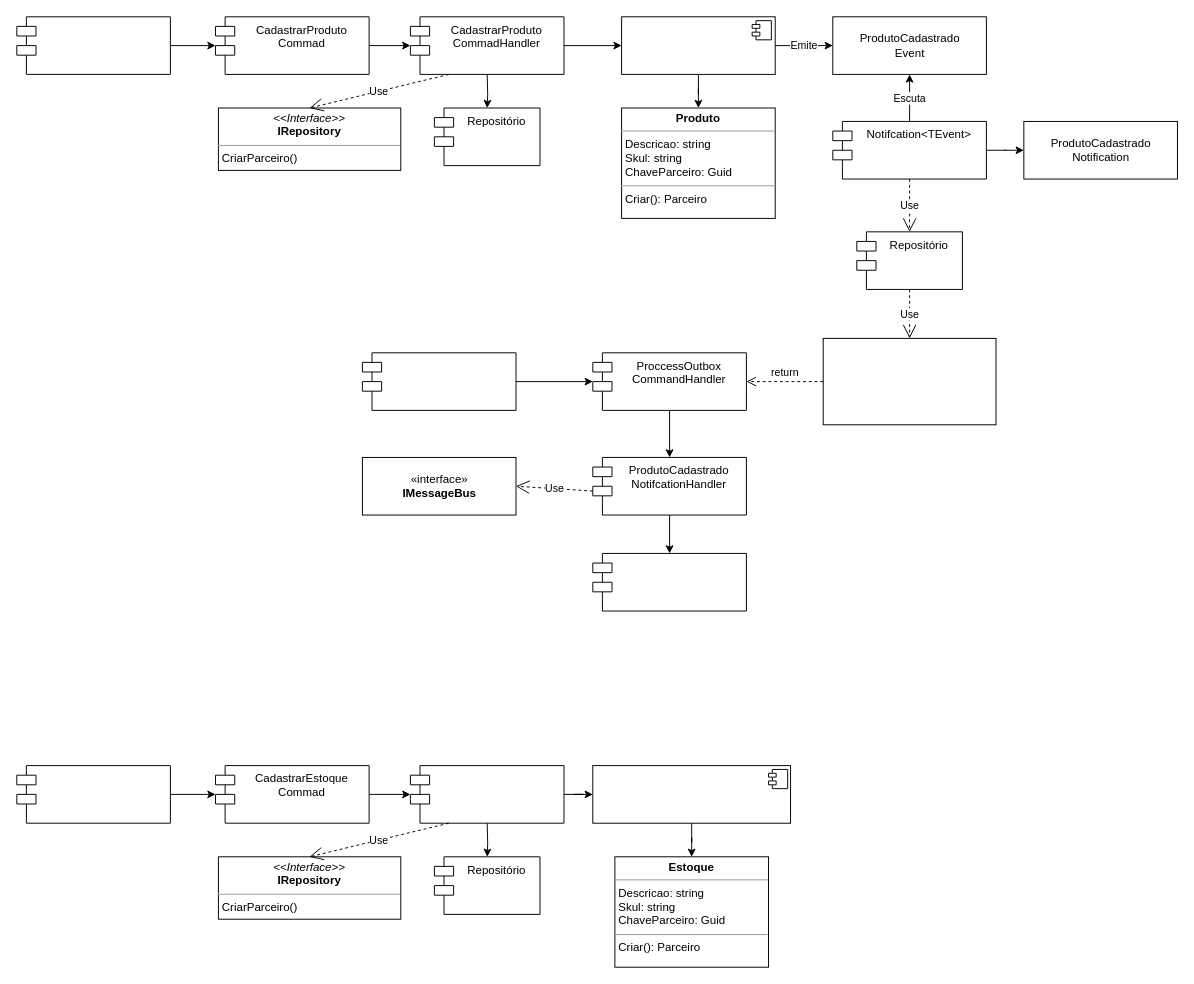
This 1194x984 diagram has some shape labels left out. Here are the shapes that lost their labels. From the top down, the centre of each, then its label:
the point at 93,45: Endpoint CadastrarProduto
the point at 698,45: Produto Criar(params): Produto
the point at 438,381: HangFire
the point at 909,381: OutboxMessages PK Id Command Type
the point at 669,581: Mensageria
the point at 93,794: Endpoint CadastrarEstoque
the point at 486,794: CadastrarEstoque CommadHandler
the point at 691,794: Armazem CadastrarEstoque(params): Produto
